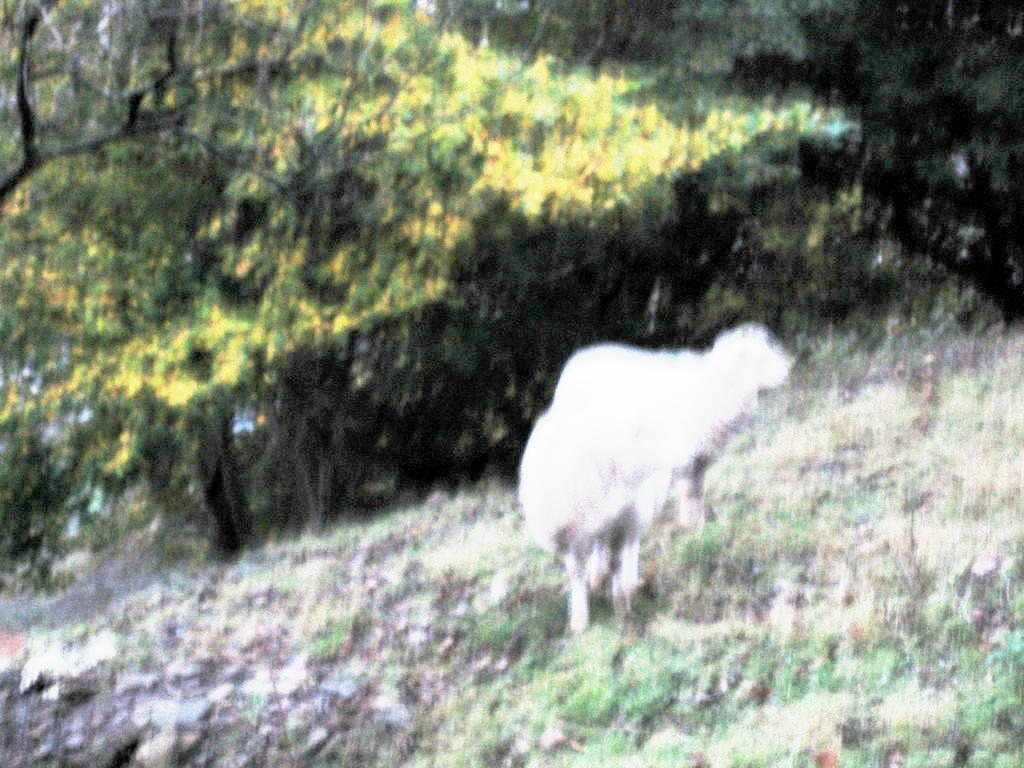Sheep: (562, 339, 790, 521), (520, 388, 692, 626)
